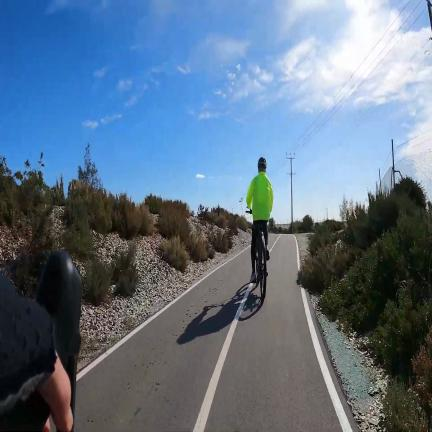Bike_Lane: (75, 234, 354, 432)
